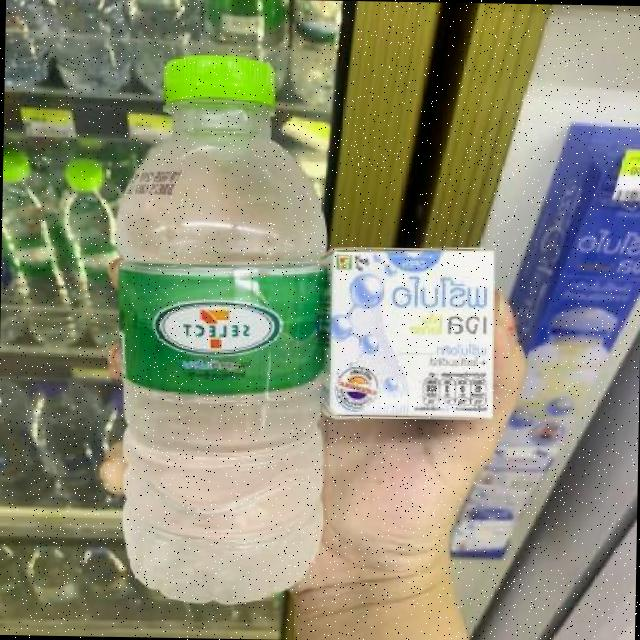bottle: (116, 39, 338, 624)
cap: (150, 54, 282, 110)
label: (117, 271, 326, 388)
